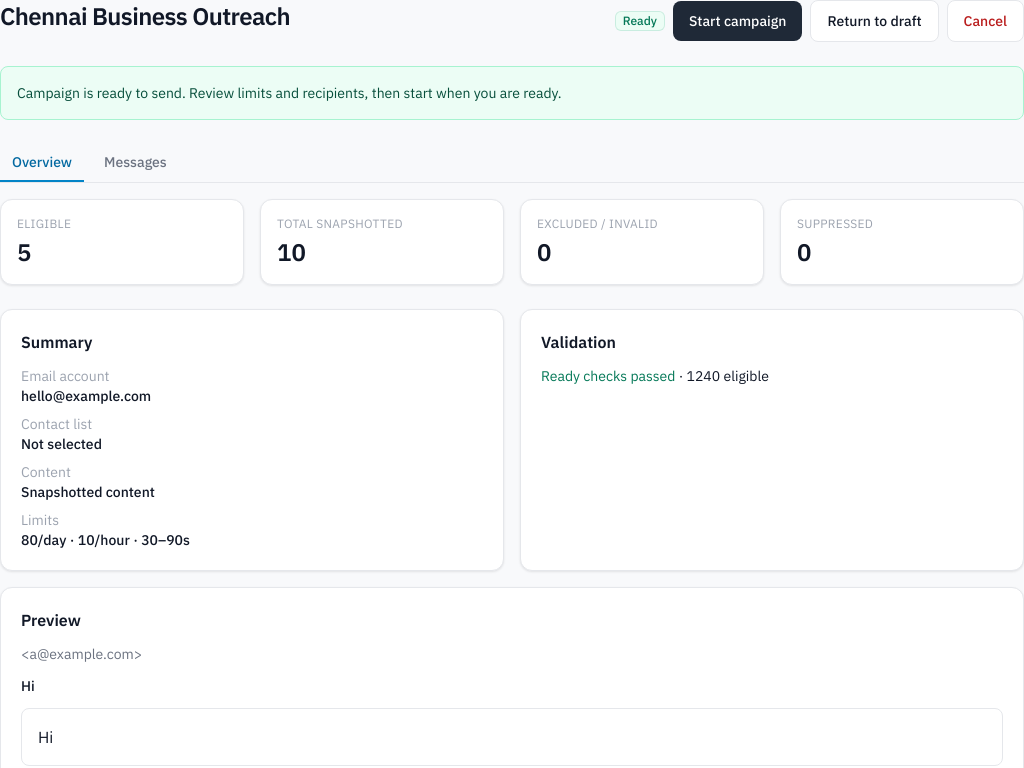
Scenario: CampaignDetailPage delivery UI › shows start button and confirmation for ready campaign
Click the button "Start campaign" at (738, 21), box 673,1 -> 802,41
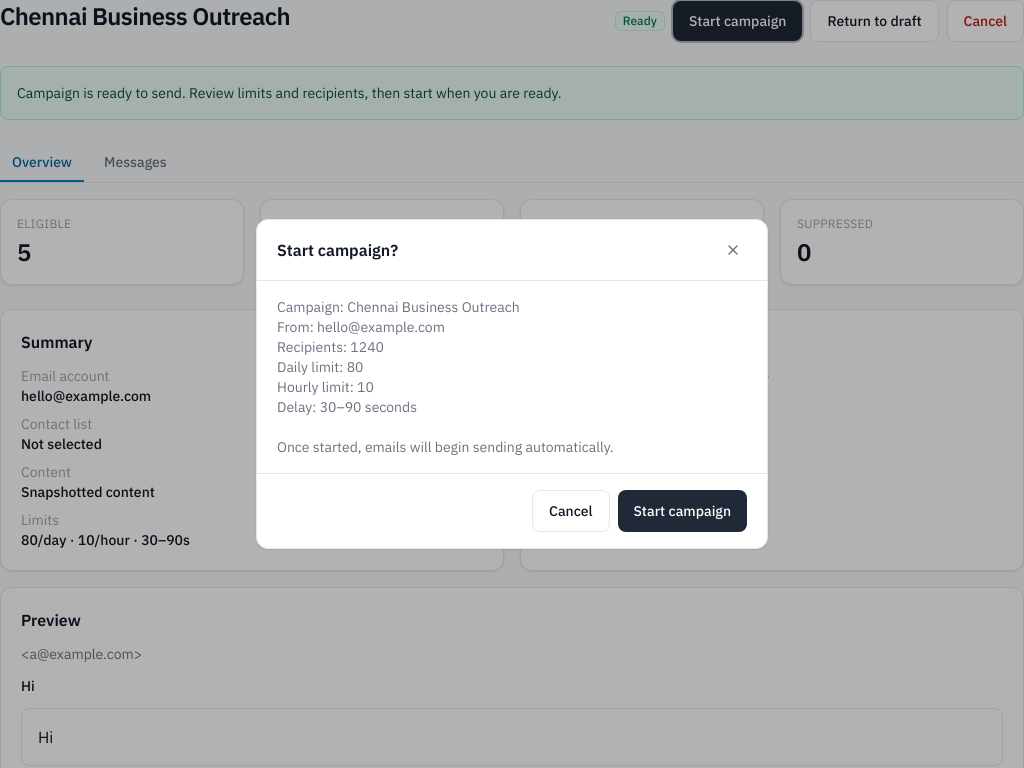
expect the dialog shows "Chennai Business Outreach": met, box 277,298 -> 614,456
expect the dialog shows "hello@example.com": met, box 277,298 -> 614,456
expect the dialog shows "1240": met, box 277,298 -> 614,456
